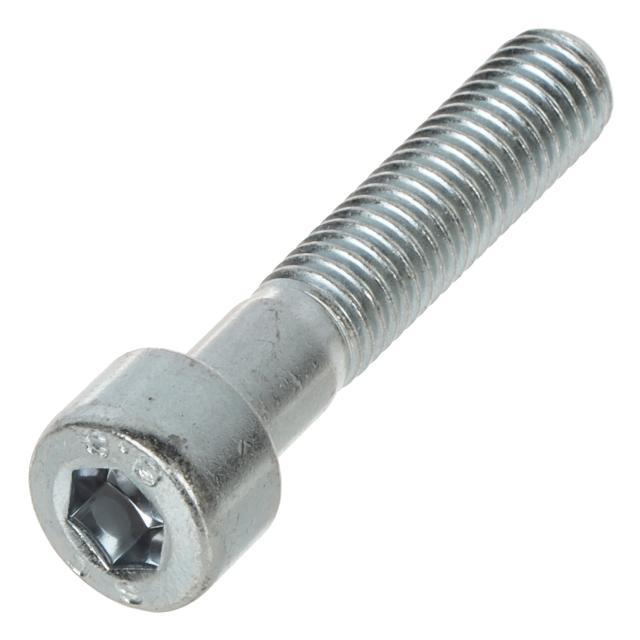allen: (61, 464, 169, 581)
